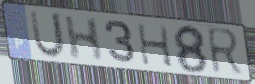3: (102, 19, 137, 65)
8: (171, 23, 211, 75)
H: (62, 15, 104, 63), (135, 22, 175, 69)
R: (205, 25, 246, 78)
U: (27, 8, 67, 61)
